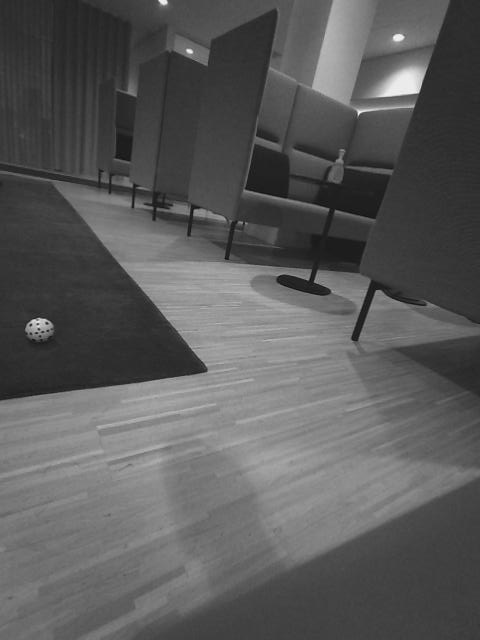dogtoy: (18, 312, 62, 347)
